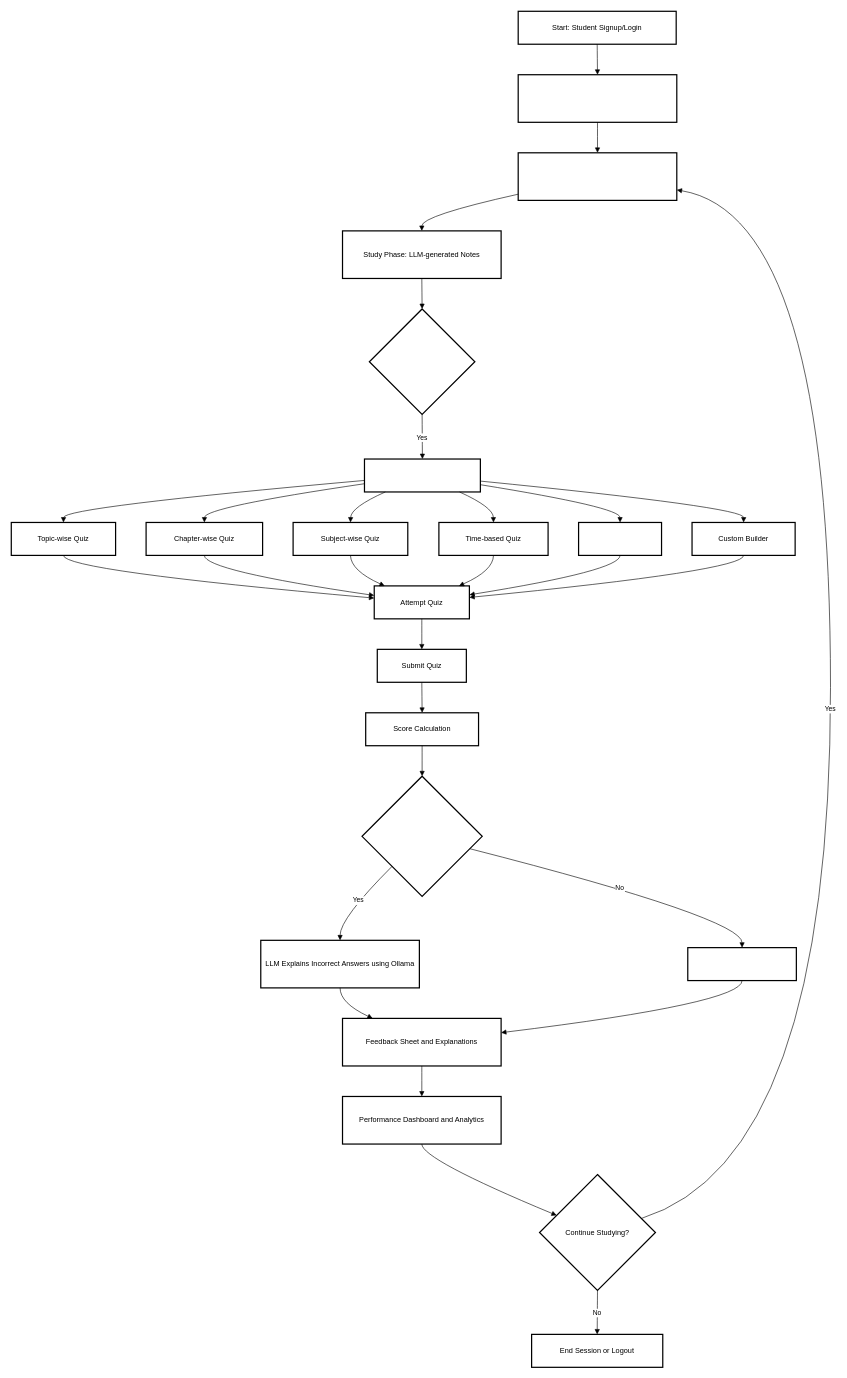
The diagram is 847 pixels wide and 1378 high, and some of its shapes have lost their labels. Each missing label, with the centre of its shape:
Any Wrong Answers?: point 422,836
Choose Quiz Mode: point 422,475
Grand Test: point 620,539
Proceed to Quiz?: point 421,361
Select Exam Type and Subject: point 597,98
Skip Explanation: point 742,964
Subject → Chapter → Topic Navigation: point 597,176
